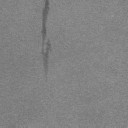red iron: (42, 40, 51, 74), (42, 0, 49, 40)
